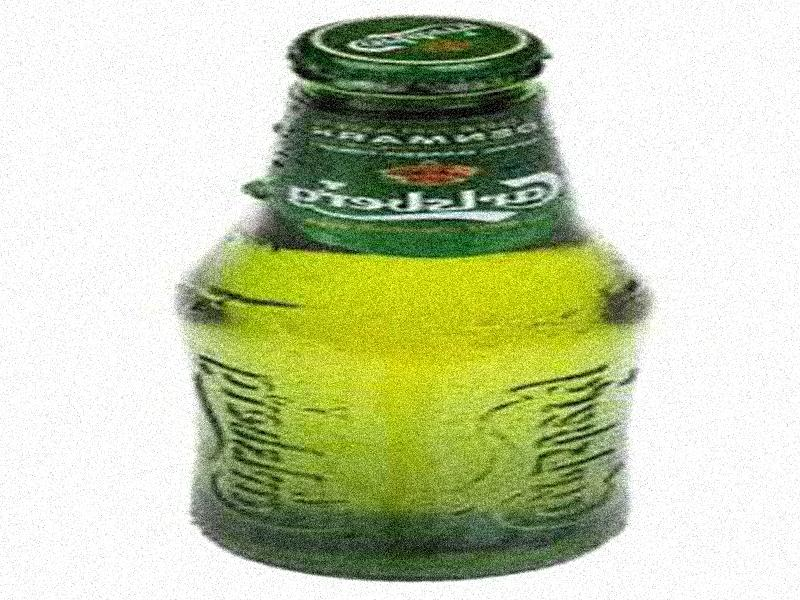Beer: (180, 17, 639, 583)
